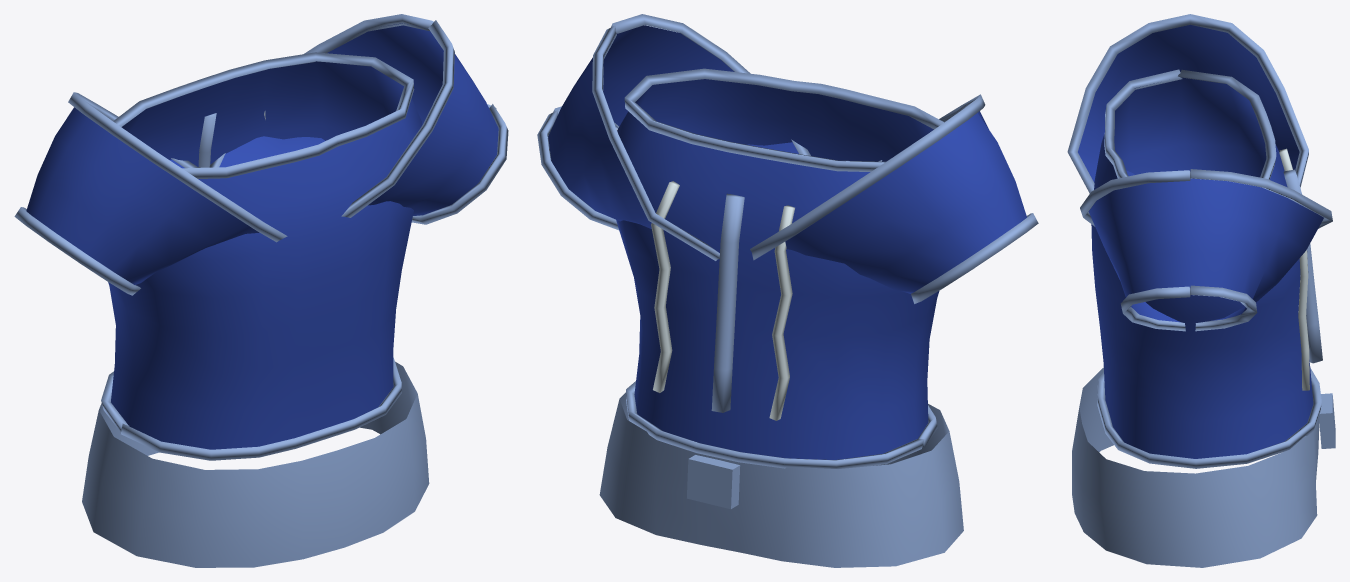
The model's file is stardust_plate.glb.
3 renders of one model, left to right at view 1: azimuth 30°, elevation 25°; view 2: azimuth 150°, elevation 25°; view 3: azimuth 270°, elevation 25°, orthographic. The views are drawn at different scales.
Visible parts, largest first — view 1: stardust_plate_chest; view 2: stardust_plate_chest; view 3: stardust_plate_chest.
Boxes of the visible parts, bbox=[...] form: stardust_plate_chest: bbox=[14, 14, 508, 567]; stardust_plate_chest: bbox=[537, 14, 1038, 567]; stardust_plate_chest: bbox=[1067, 14, 1335, 567].
Size of the model in its own units: 0.6477 by 0.5848 by 0.3444.
